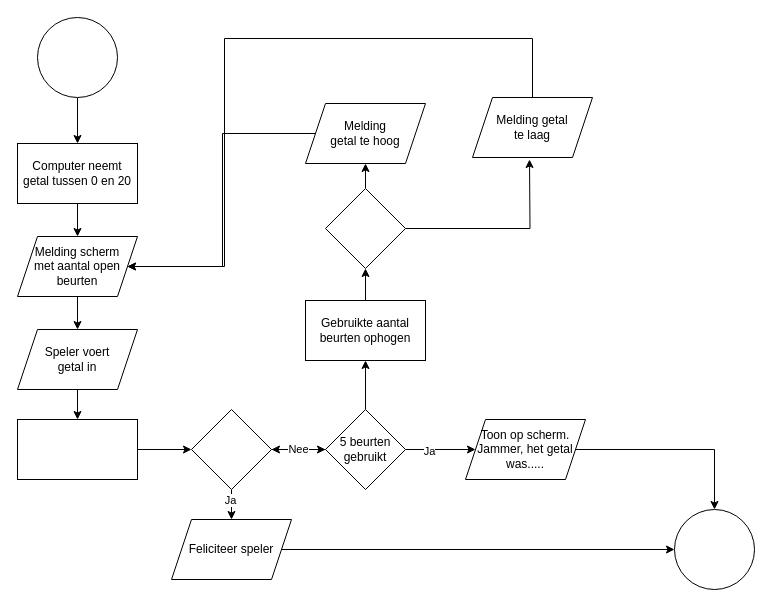
This 772x607 diagram has some shape labels left out. The centre of each missing label's shape, as x and y in pixels:
"Begin" belongs at point 77,57.
"Computer vergelijkt getal" belongs at point 77,449.
"Einde" belongs at point 714,549.
"Getal geraden" belongs at point 231,449.
"Getal te hoog" belongs at point 365,228.
